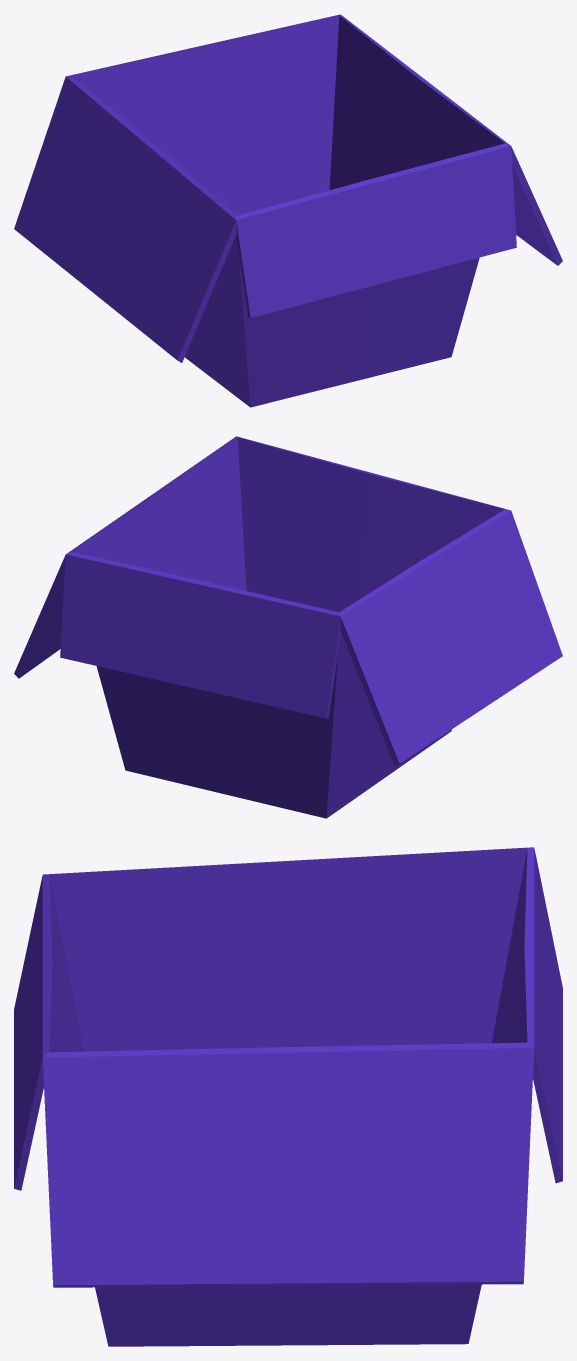
The picture shows the model from 3 angles, top to bottom: view 1: azimuth 30°, elevation 25°; view 2: azimuth 150°, elevation 25°; view 3: azimuth 270°, elevation 25°; orthographic projection. The views are drawn at different scales.
Visible parts, largest first — view 1: SM_CardboardBox; view 2: SM_CardboardBox; view 3: SM_CardboardBox.
Part boxes in pixels (<box>): SM_CardboardBox: <box>14,14,562,407</box>; SM_CardboardBox: <box>14,436,562,818</box>; SM_CardboardBox: <box>14,847,562,1346</box>.
Size of the model in its own units: 108 by 62.35 by 92.23.
